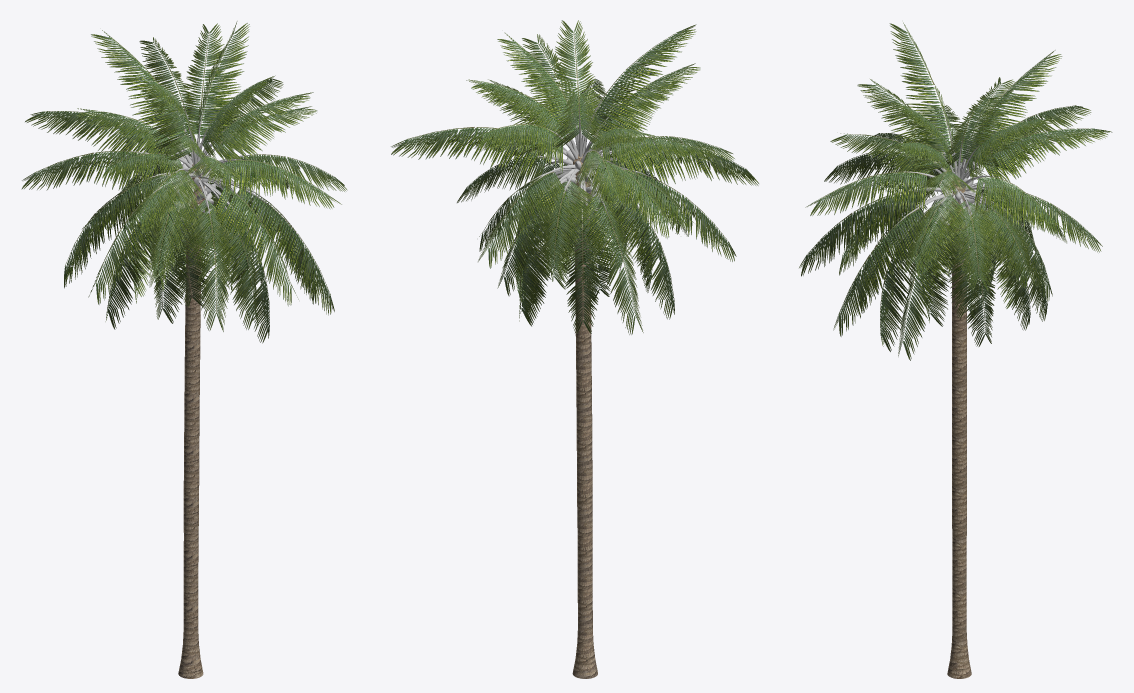
Rendered from Palm_1.obj.
The picture shows the model from 3 angles, left to right: view 1: azimuth 30°, elevation 25°; view 2: azimuth 150°, elevation 25°; view 3: azimuth 270°, elevation 25°; orthographic projection. The views are drawn at different scales.
Parts seen in each view (by area): view 1: Palm_1_1; view 2: Palm_1_1; view 3: Palm_1_1.
Boxes of the visible parts, x1,y1,x2,y2 form: Palm_1_1: (21, 21, 347, 678); Palm_1_1: (391, 20, 758, 678); Palm_1_1: (799, 22, 1112, 678).
Size of the model in its own units: 687 by 1457 by 694.
